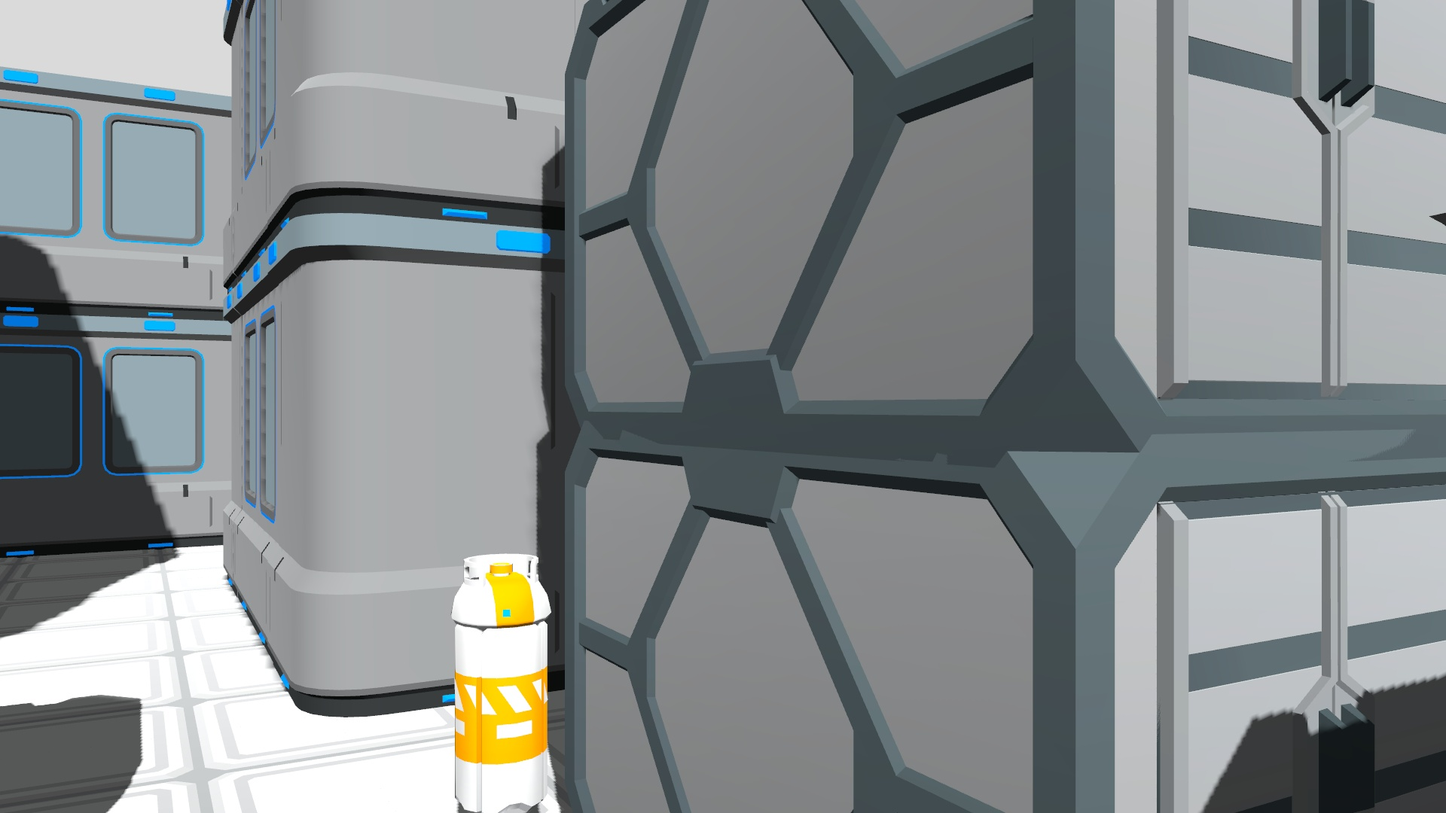yellow_barrel: (448, 547, 555, 810)
